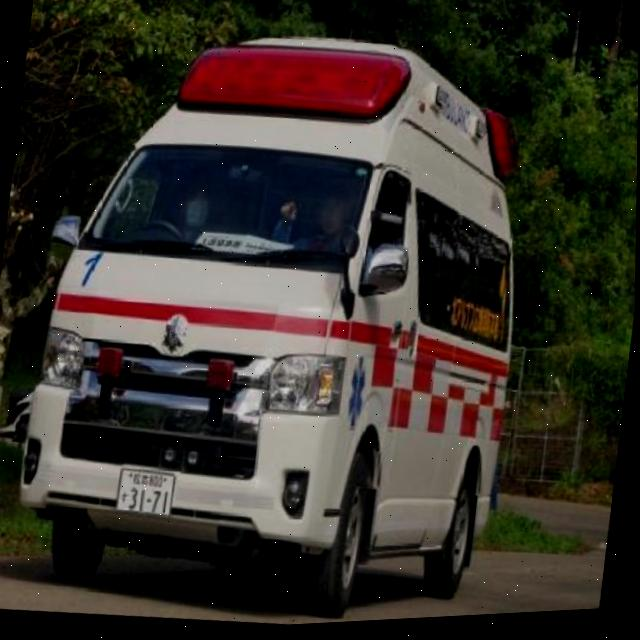emergency: (0, 2, 552, 640)
